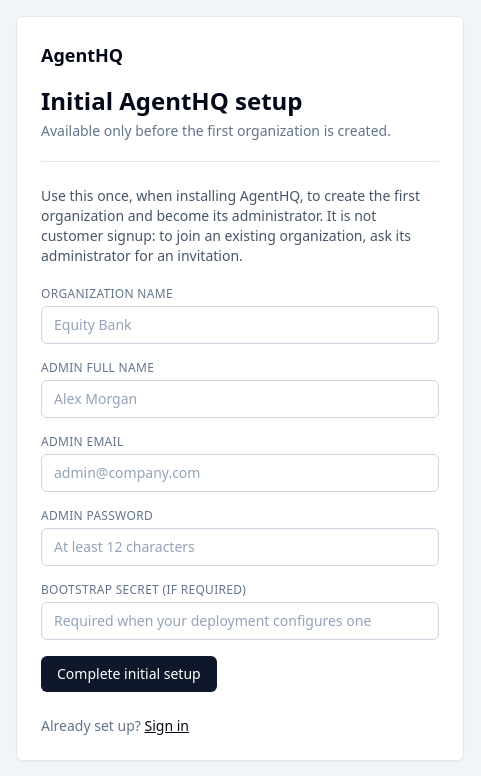
Test case: canonical /bootstrap page › 6 and 8. a 403 shows the generic setup message, never the secret, and signs nobody in
In the field labelled "Organization name": (240, 325) 41,306 -> 439,344, type "Founding Org"
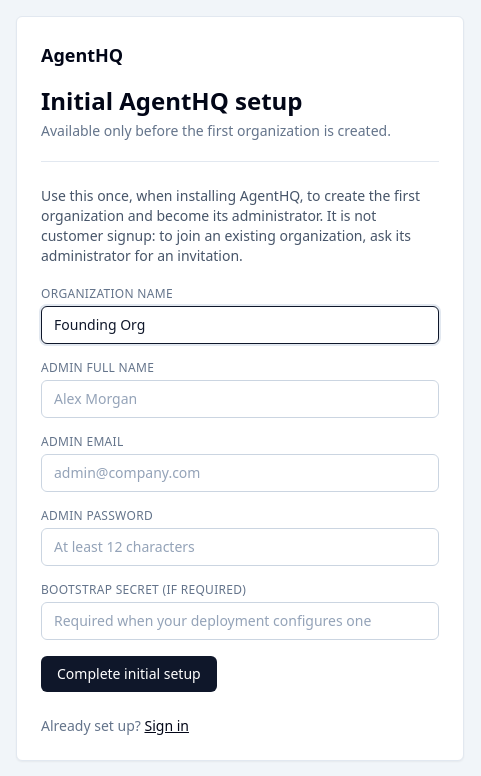
In the field labelled "Admin full name": (240, 399) 41,380 -> 439,418, type "Founder"
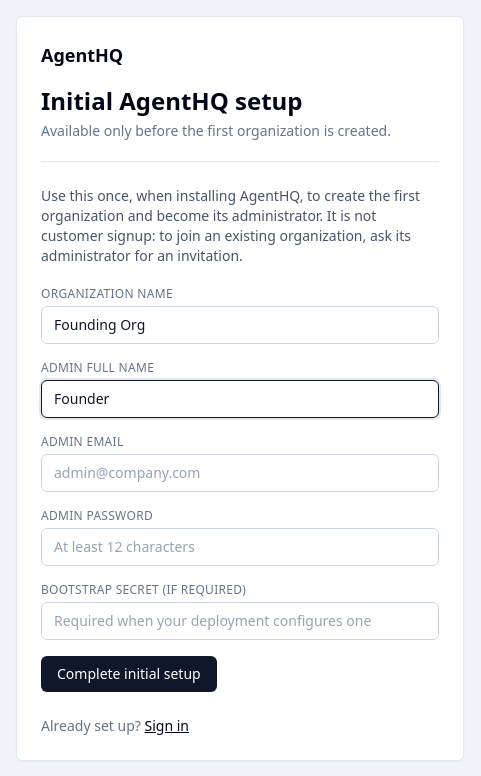
In the field labelled "Admin email": (240, 473) 41,454 -> 439,492, type "founder@example.com"
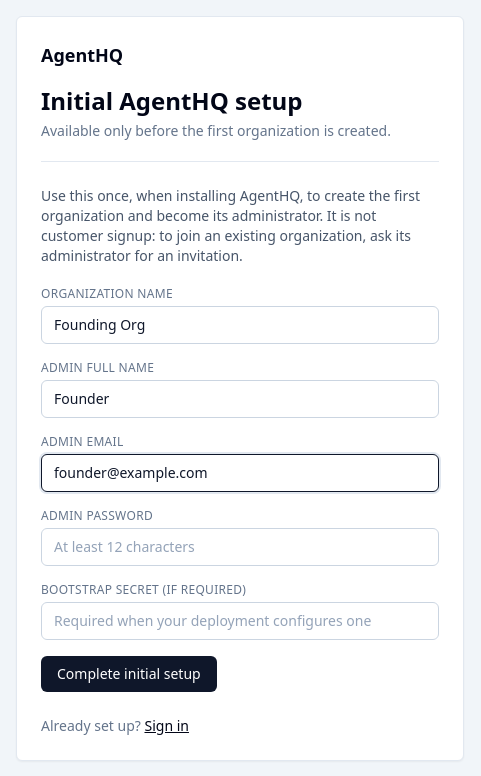
In the password field labelled "Admin password": (240, 547) 41,528 -> 439,566, type "FounderPassword123!"
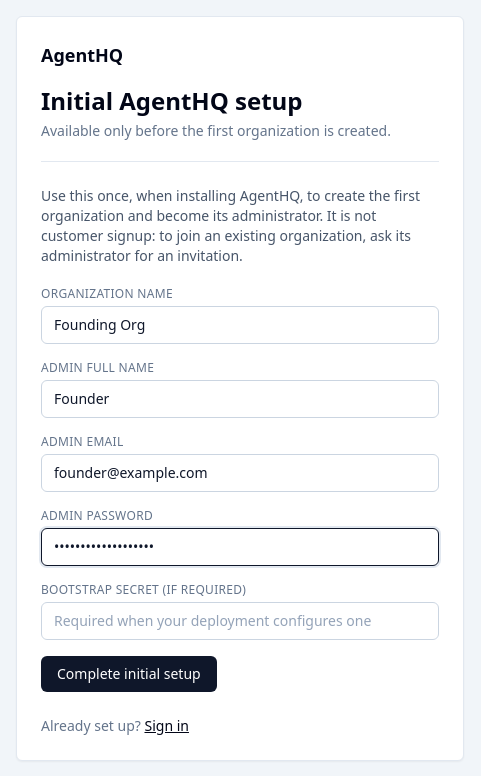
In the password field labelled "Bootstrap secret (if required)": (240, 621) 41,602 -> 439,640, type "s3cret-Setup-Value-9f8e7d"
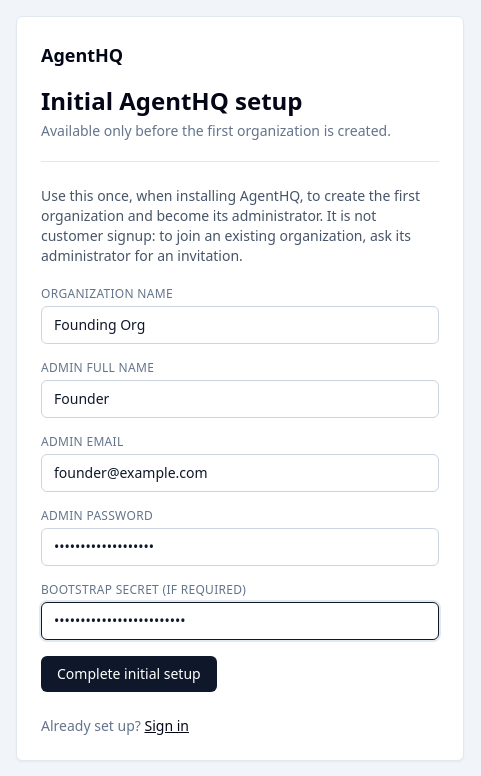
Click the button "Complete initial setup": (129, 674) 41,656 -> 217,692
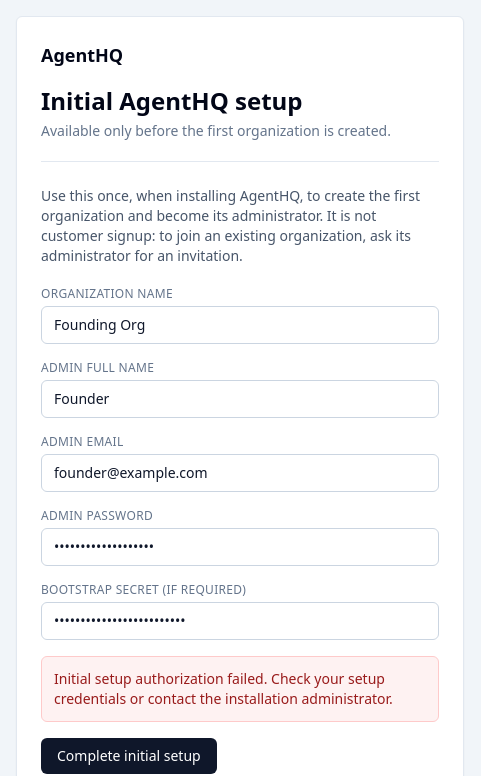
Now the text "Initial setup authorization failed. Check your setup credentials or contact the installation administrator." is shown, box 54,669 -> 393,708
